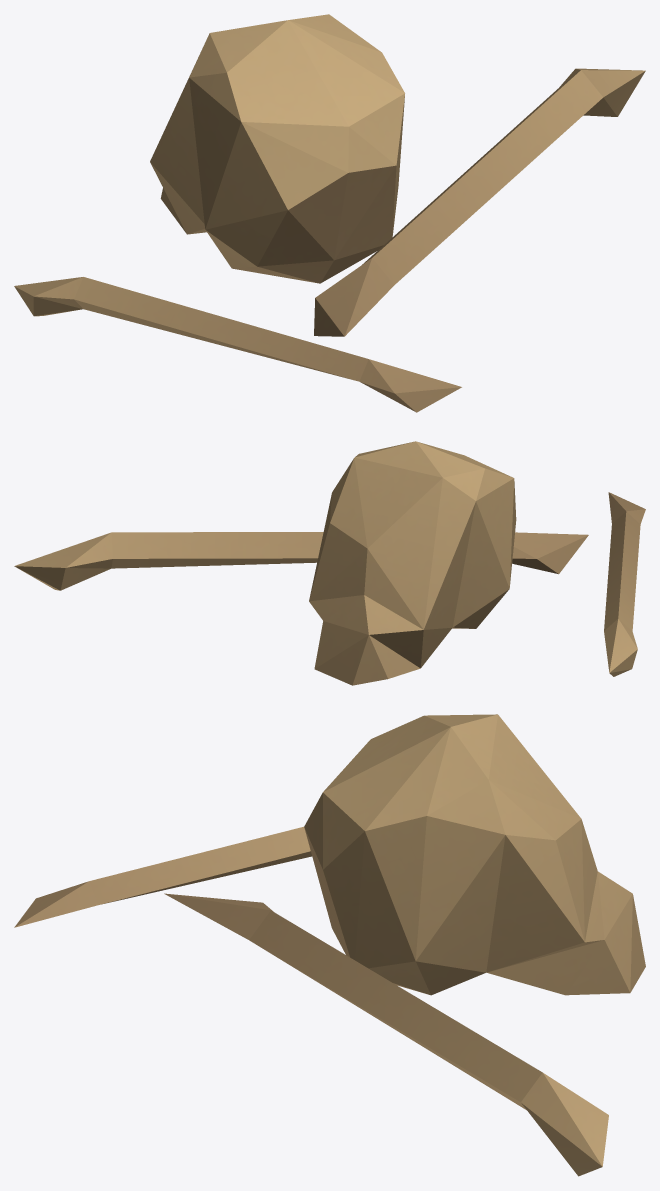
Rendered from Skull_3A_LOD.fbx.
3 views of the same model, one above another, from view 1: azimuth 30°, elevation 25°; view 2: azimuth 150°, elevation 25°; view 3: azimuth 270°, elevation 25° (orthographic). The views are drawn at different scales.
Parts seen in each view (by area): view 1: polySurface1409; view 2: polySurface1409; view 3: polySurface1409.
Boxes of the visible parts, x1,y1,x2,y2 form: polySurface1409: (14, 14, 645, 412); polySurface1409: (14, 441, 645, 685); polySurface1409: (14, 714, 645, 1176).
Size of the model in its own units: 1.91 by 0.6328 by 1.42.
